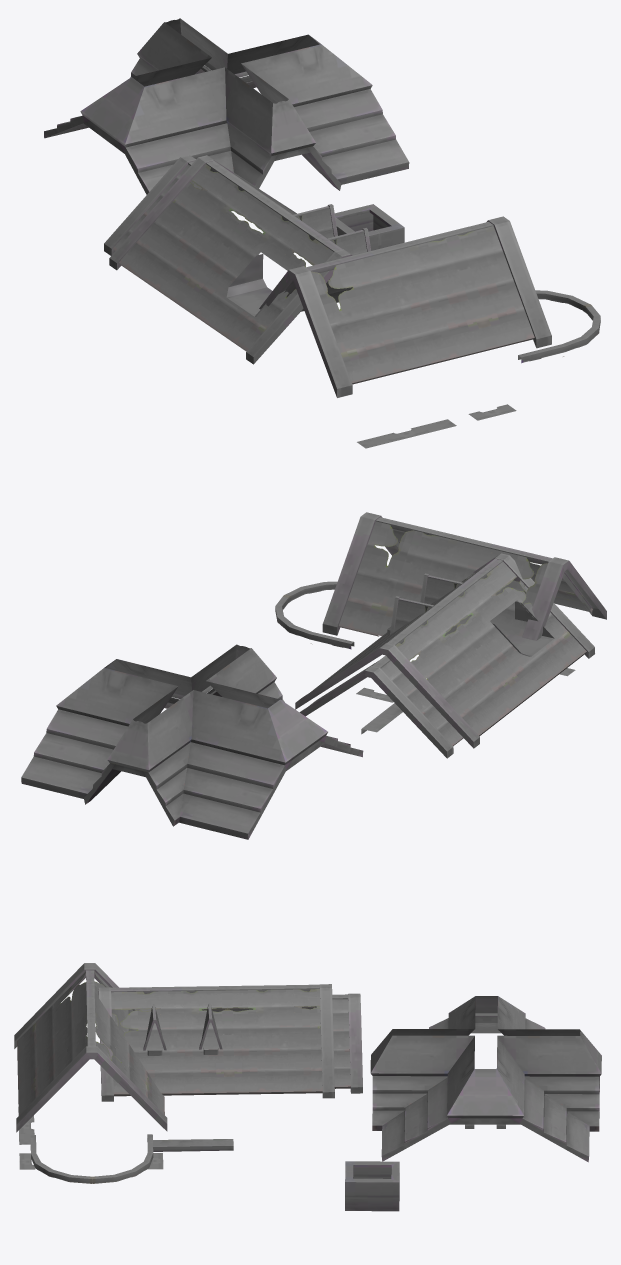
The model's file is pref_sm_garden_house_vertexcolor05_lv1.fbx.
3 renders of one model, top to bottom at view 1: azimuth 30°, elevation 25°; view 2: azimuth 150°, elevation 25°; view 3: azimuth 270°, elevation 25°, orthographic. The views are drawn at different scales.
Parts seen in each view (by area): view 1: pref_sm_garden_house_vertexcolor05_lv1; view 2: pref_sm_garden_house_vertexcolor05_lv1; view 3: pref_sm_garden_house_vertexcolor05_lv1.
Part boxes in pixels (x1,y1,x2,y2): pref_sm_garden_house_vertexcolor05_lv1: [44, 18, 600, 448]; pref_sm_garden_house_vertexcolor05_lv1: [21, 512, 606, 839]; pref_sm_garden_house_vertexcolor05_lv1: [14, 963, 601, 1211].
Size of the model in its own units: 11.93 by 6.27 by 19.93.
